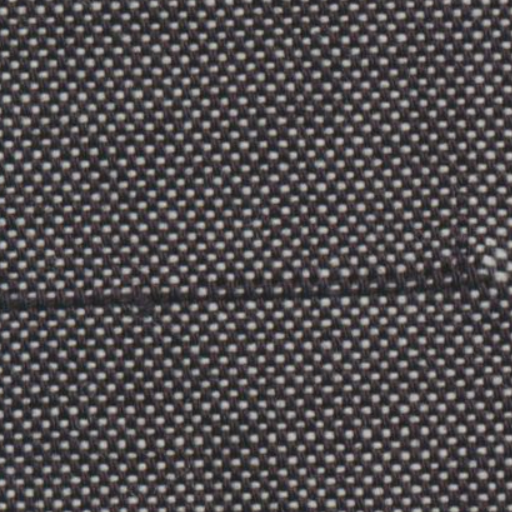DaiSha: (34, 262, 473, 314)
